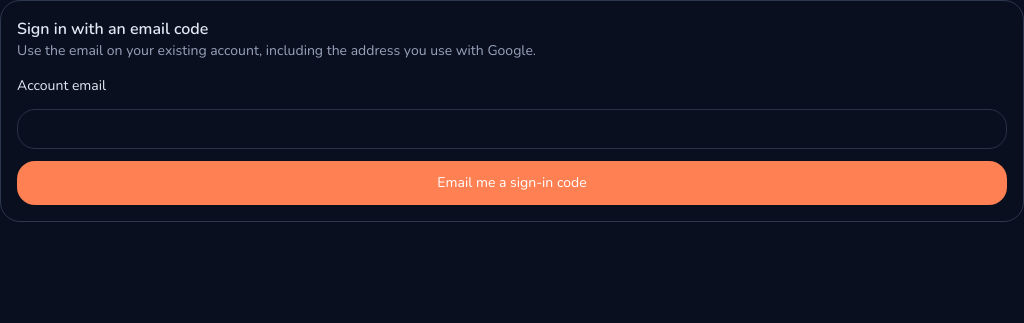
Test case: Email code sign-in › does not reveal whether an email is registered
Type "unknown@example.test" into the field with id "code-email". click: (512, 129)
box: left=17, top=109, right=1007, bottom=149
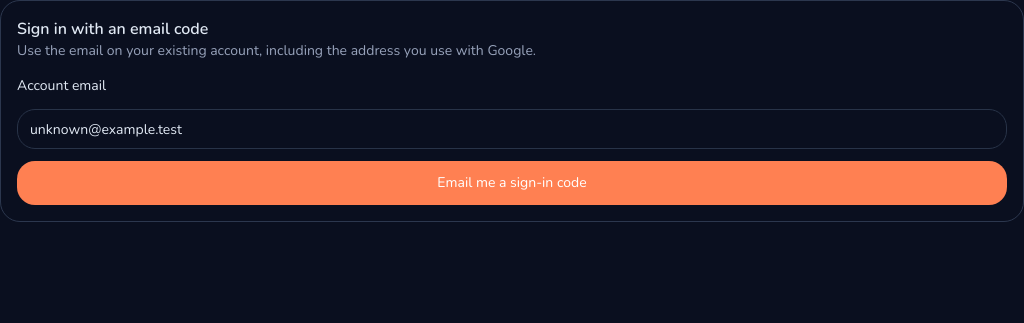
Submit the form, box left=17, top=73, right=1007, bottom=205
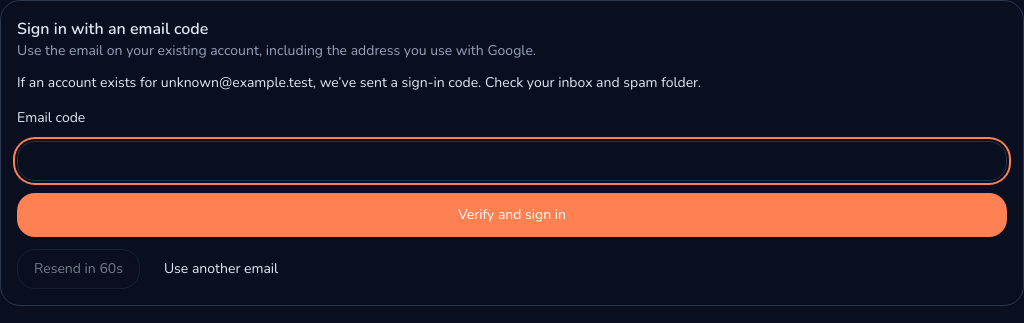
Expected: the text "If an account exists" is shown, left=17, top=73, right=161, bottom=92
Expected: the field with id "signin-code" is shown, left=17, top=141, right=1007, bottom=181
